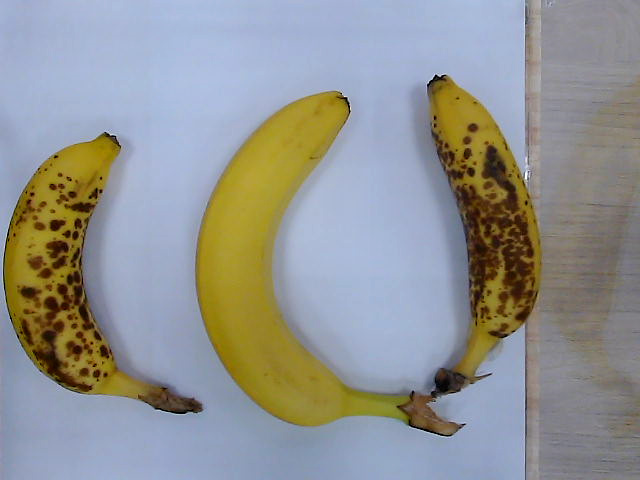fresh_banana: (197, 92, 465, 437)
rotten_banana: (5, 133, 203, 414), (427, 73, 541, 398)
